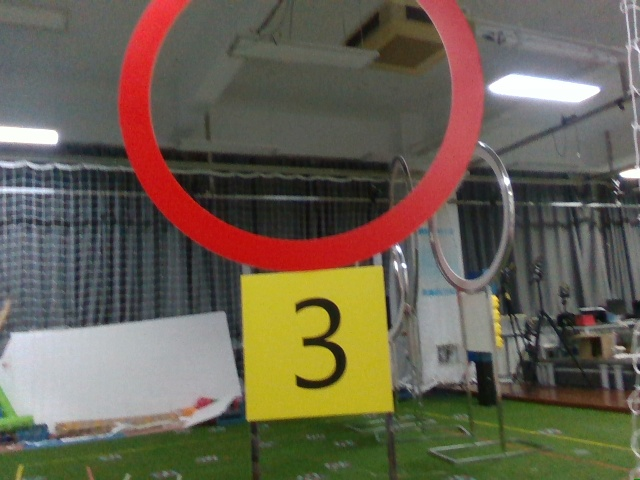target: (247, 276, 383, 417)
